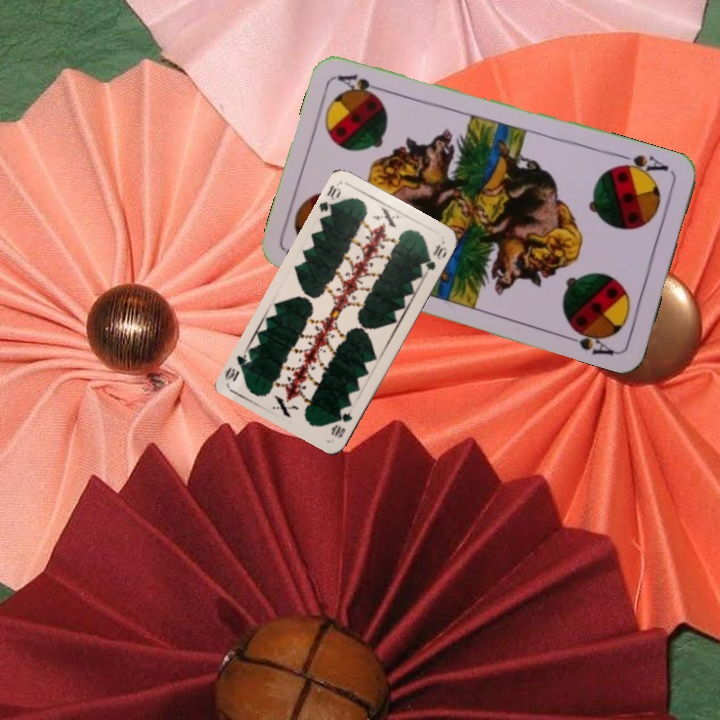G10: (315, 180, 344, 220), (327, 409, 355, 441)
SA: (612, 150, 671, 181)
